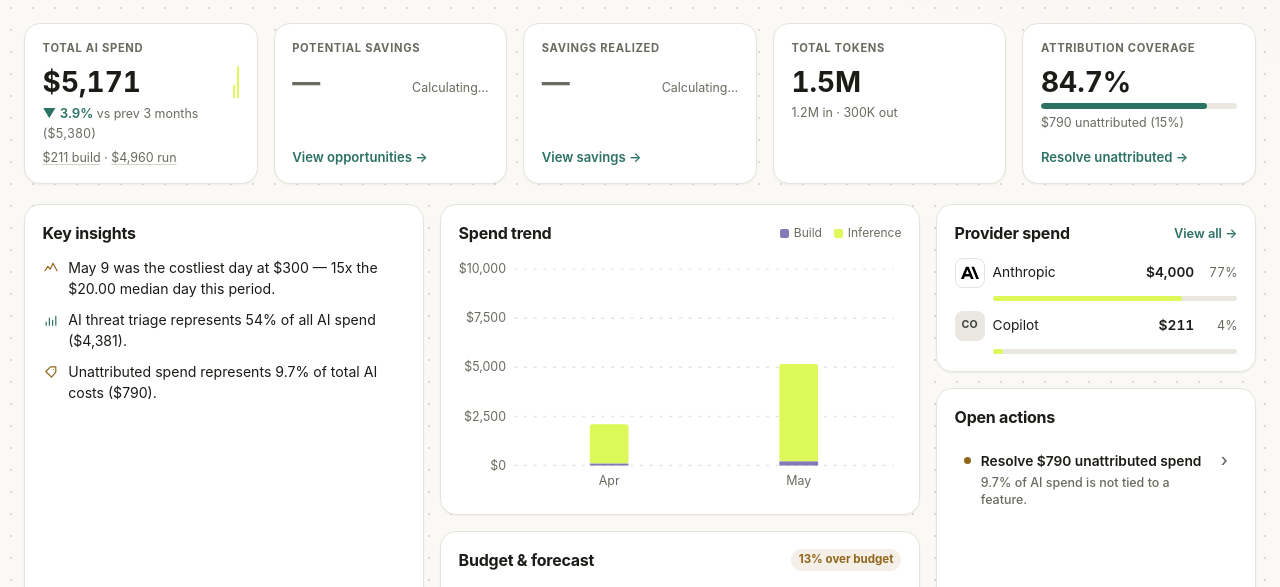
Test: Dashboard (Overview) › sends build and run to the half of the breakdown that explains them
expect the heading "Key insights" is shown: met, box [43, 221, 136, 246]
"run" opens By Provider on the inference half…
Step 1. Click the button "$4,960 run" → [144, 158], box [111, 148, 177, 167]
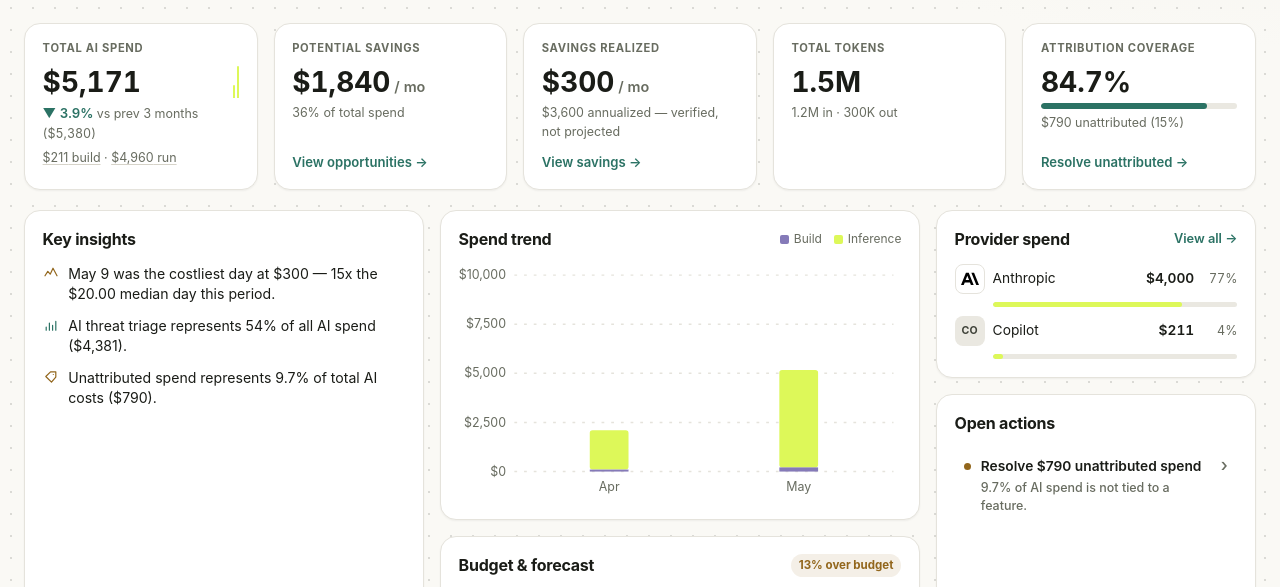
…and "build" opens the other one, which is a different question.
Step 2. Click the button "$211 build" → [72, 158], box [43, 148, 101, 167]
(page scrolled)
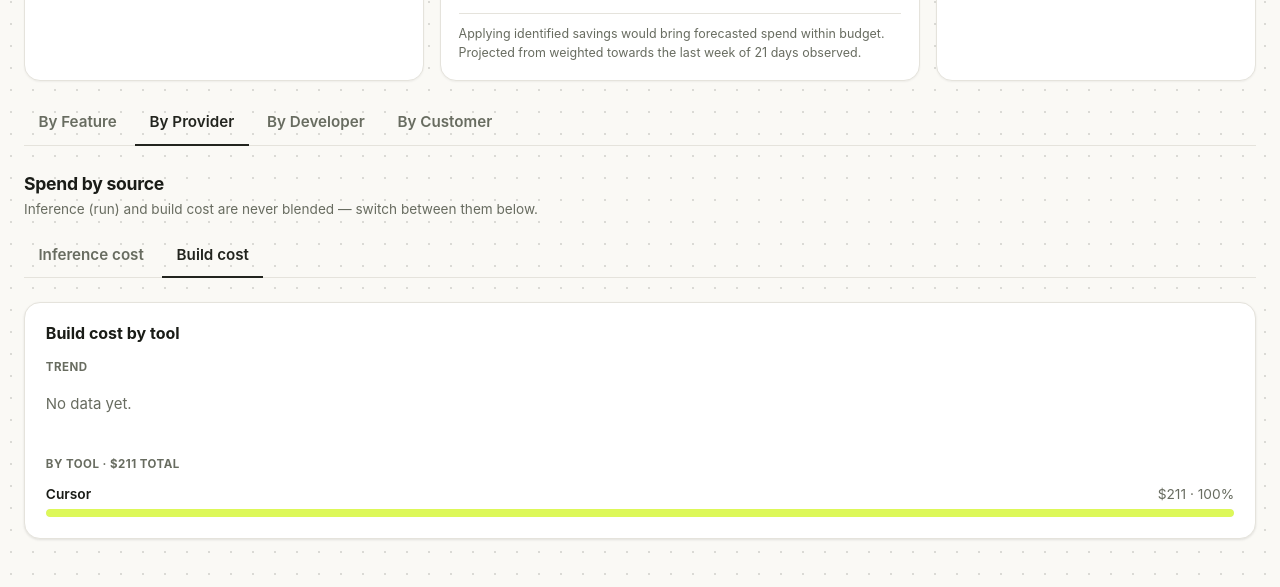
expect the heading "Build cost by tool" is shown: met, box [46, 323, 180, 343]
